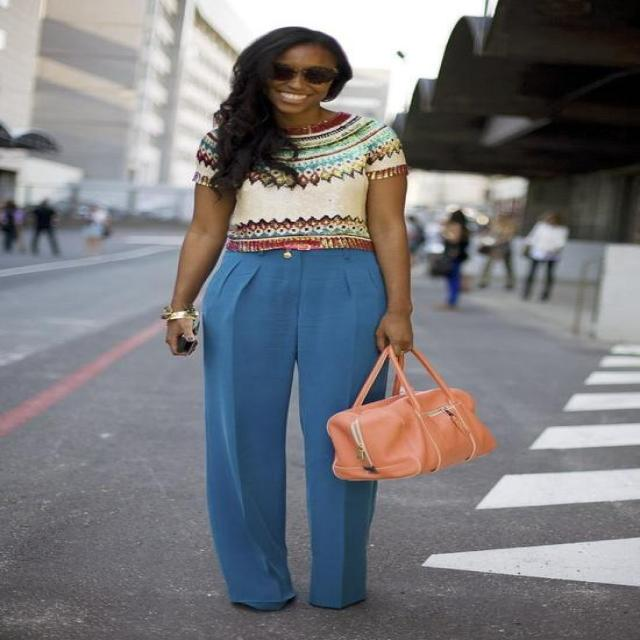Tshirt: (193, 112, 409, 253)
pants: (199, 246, 391, 612)
